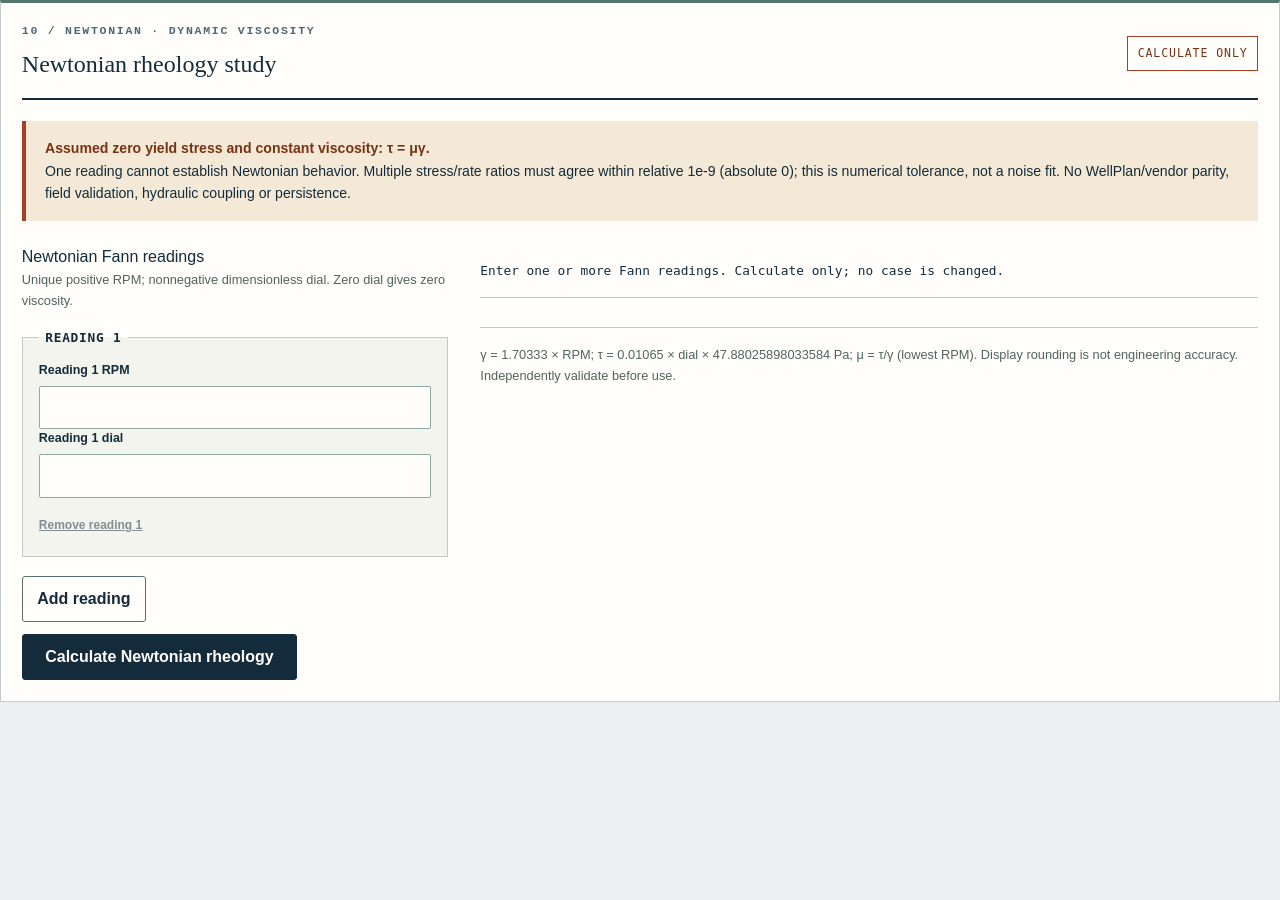
Newtonian rheology › clears results on network failure and allows retry
Type "100" into the number field labelled "Reading 1 RPM" at (235, 408), box [39,386,431,429]
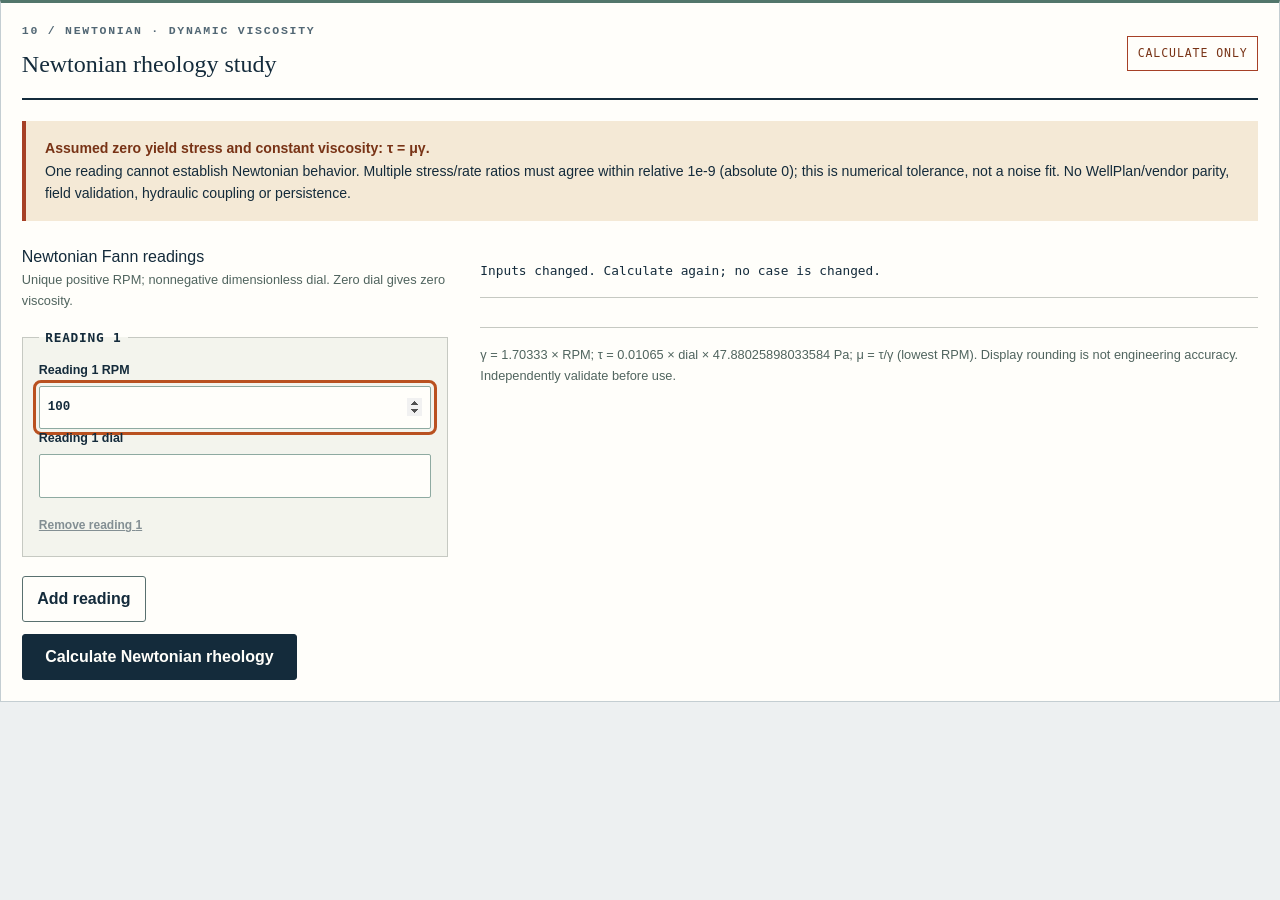
Type "10" into the number field labelled "Reading 1 dial" at (235, 476), box [39,454,431,498]
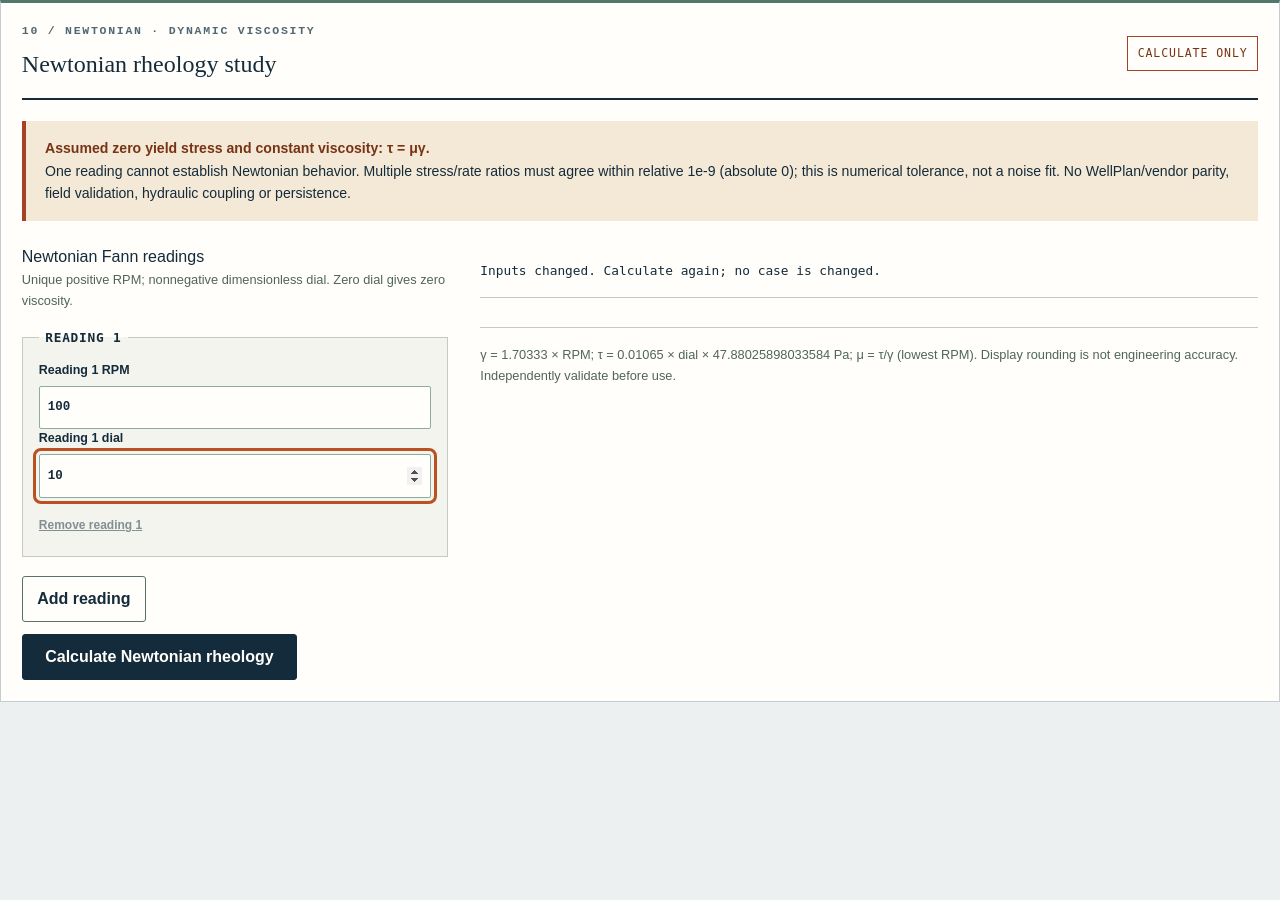
Click the button "Calculate Newtonian rheology" at (159, 657), box [22,634,297,680]
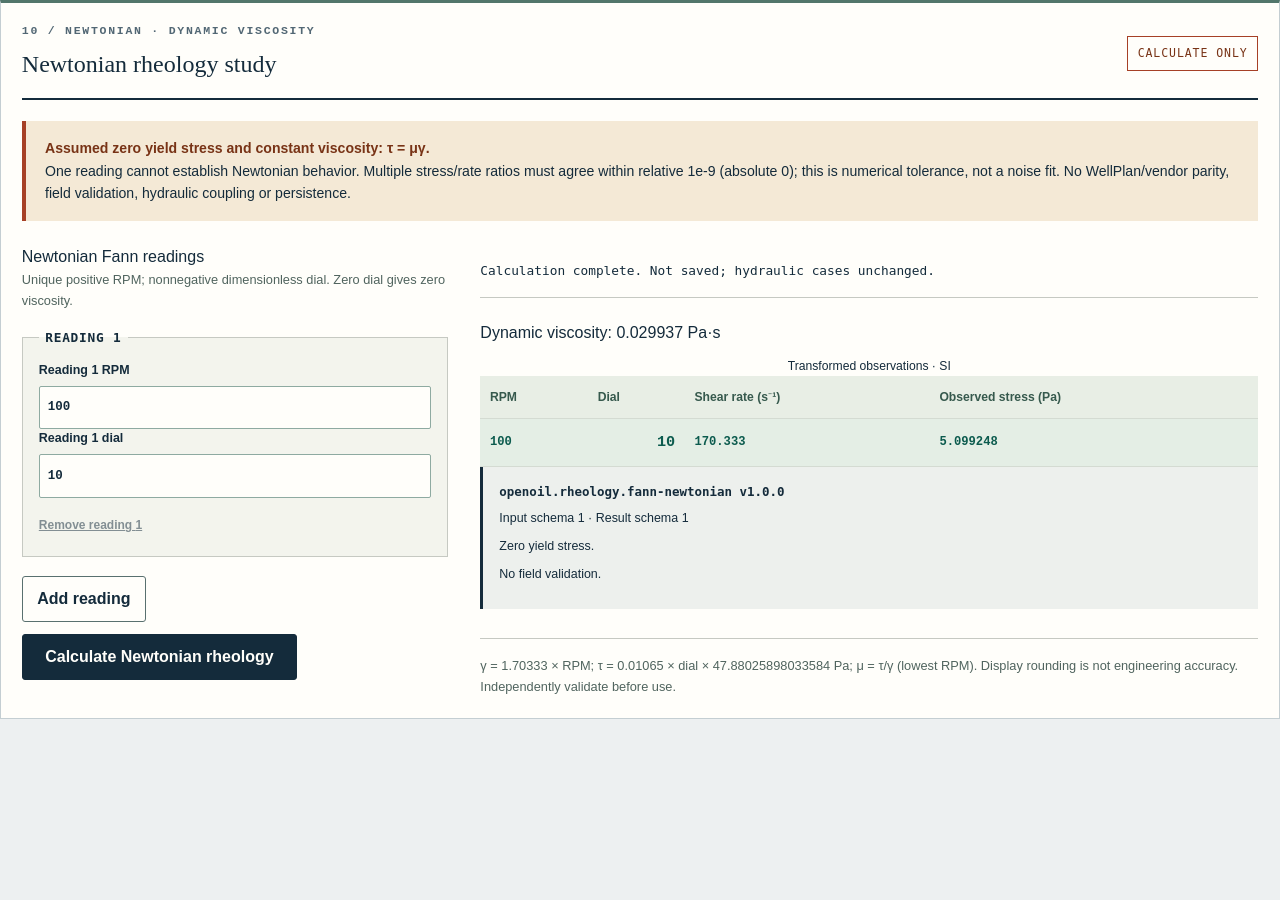
Expected: the element named "Newtonian result" is shown, [480,321,1258,609]
Click the button "Calculate Newtonian rheology" at (159, 657), box [22,634,297,680]
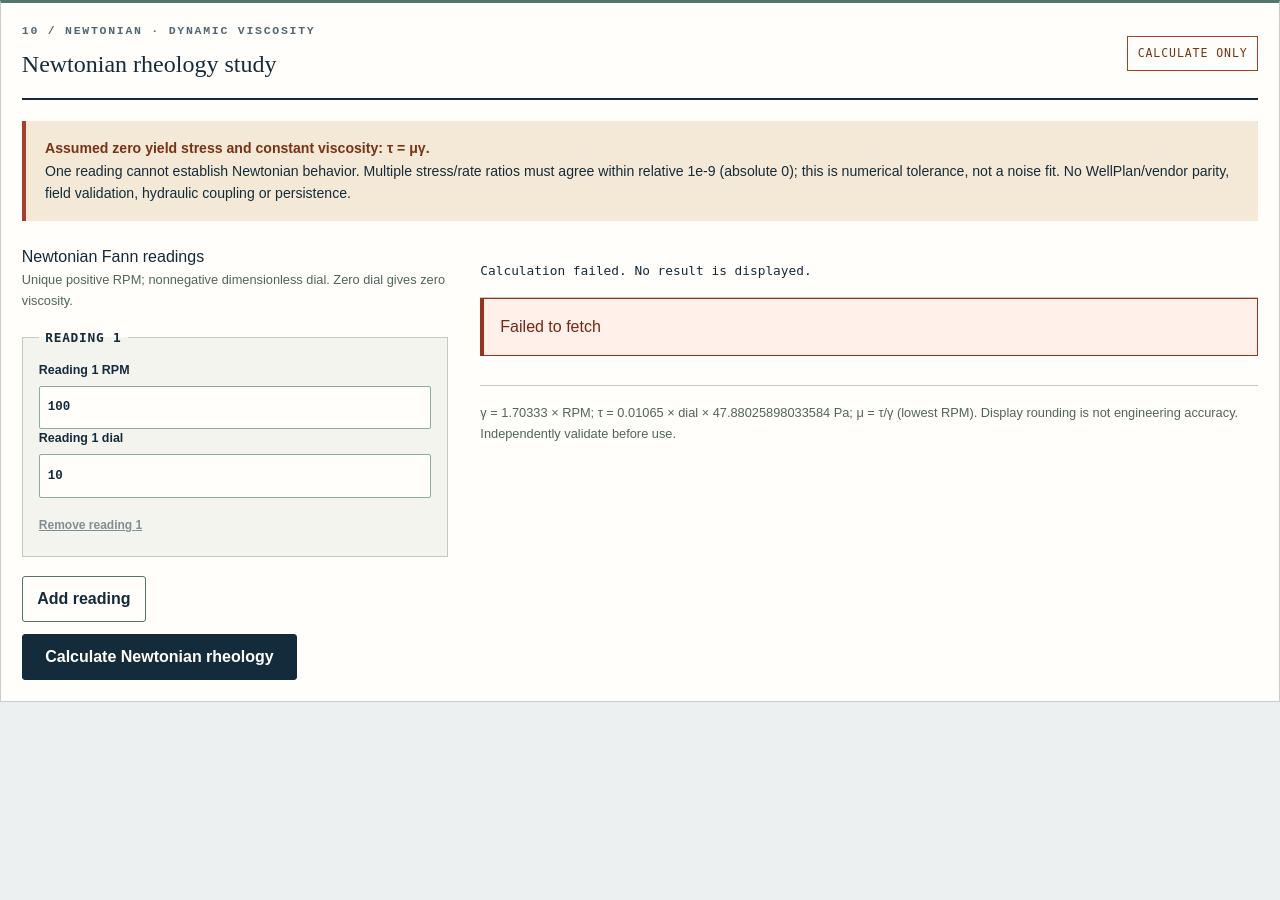
Expected: the message "Failed to fetch" is shown, [480,298,1258,356]
Click the button "Calculate Newtonian rheology" at (159, 657), box [22,634,297,680]
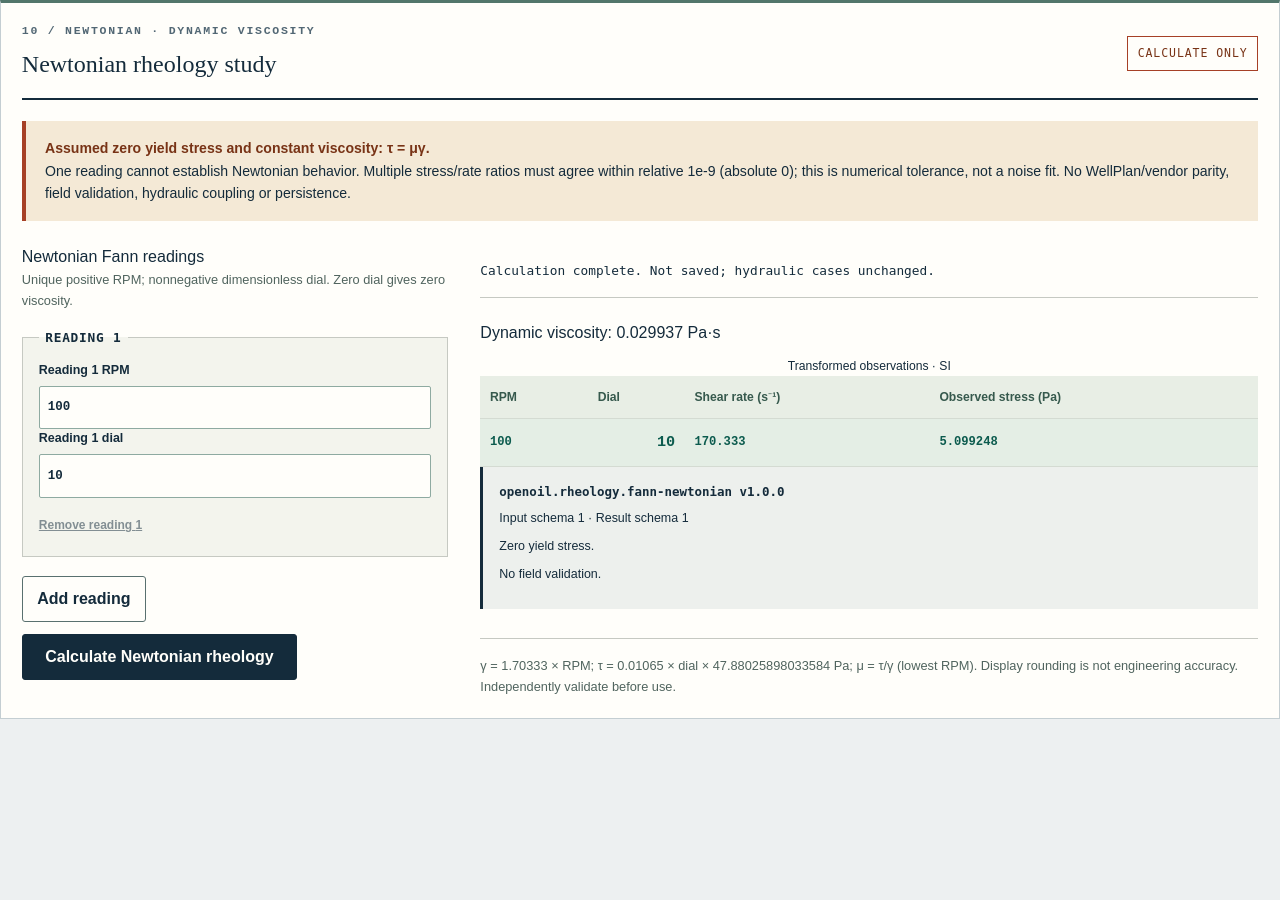
Expected: the table is shown, [480,357,1258,467]
